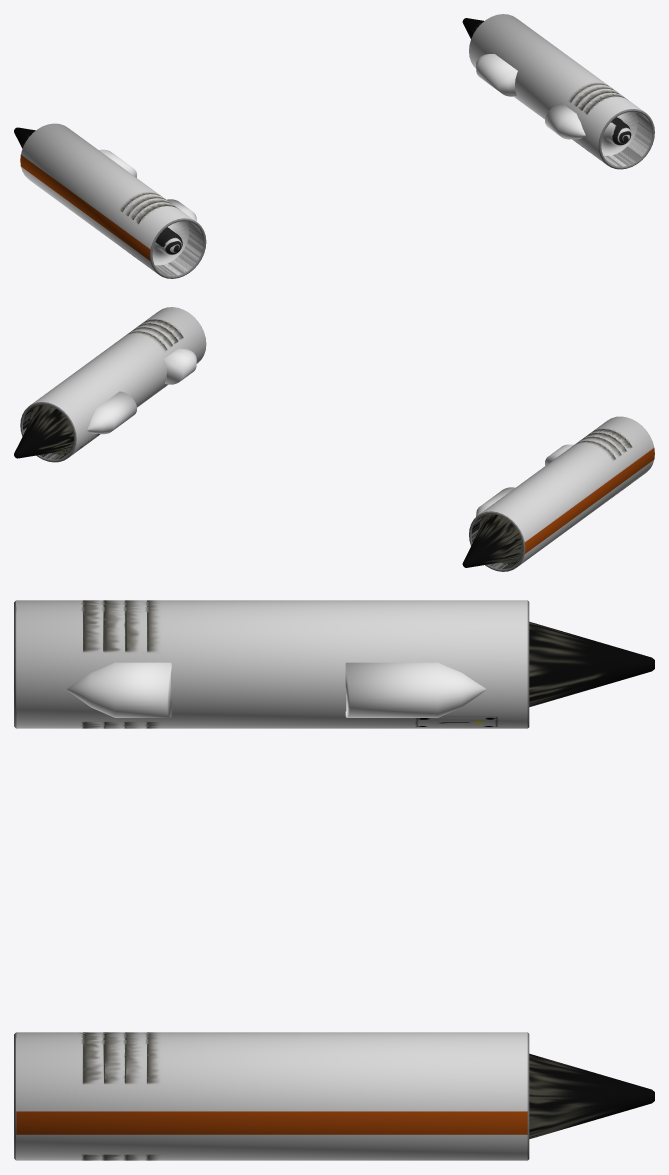
File: Engine.fbx
3 renders of one model, top to bottom at view 1: azimuth 30°, elevation 25°; view 2: azimuth 150°, elevation 25°; view 3: azimuth 270°, elevation 25°, orthographic. The views are drawn at different scales.
Visible parts, largest first — view 1: Montaje motor 1.005; view 2: Montaje motor 1.005; view 3: Montaje motor 1.005.
Boxes of the visible parts, box(x1,y1,x2,y2) form: Montaje motor 1.005: box(14, 14, 654, 278); Montaje motor 1.005: box(14, 307, 654, 571); Montaje motor 1.005: box(14, 600, 654, 1160).
Bounding box in the file's own units: 2686 × 300 × 1496.
